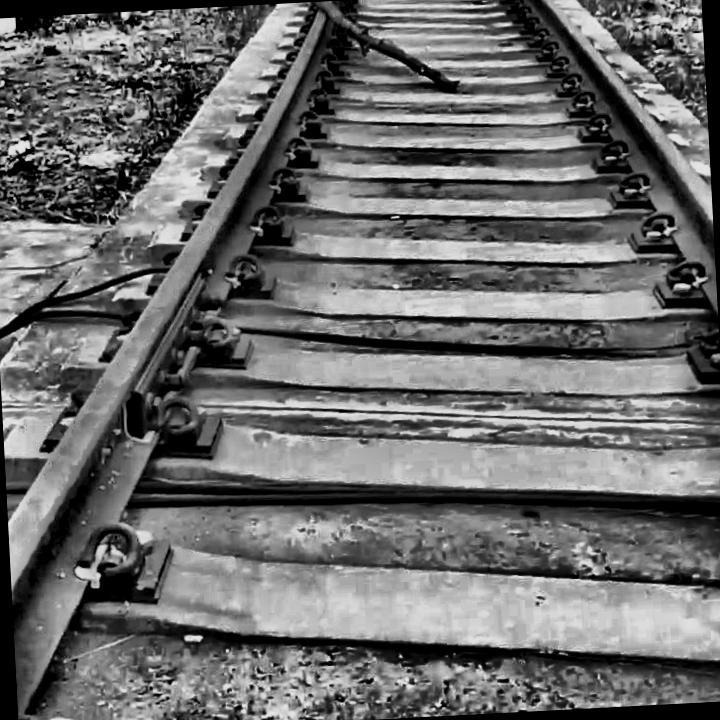Trash: (292, 0, 465, 101)
